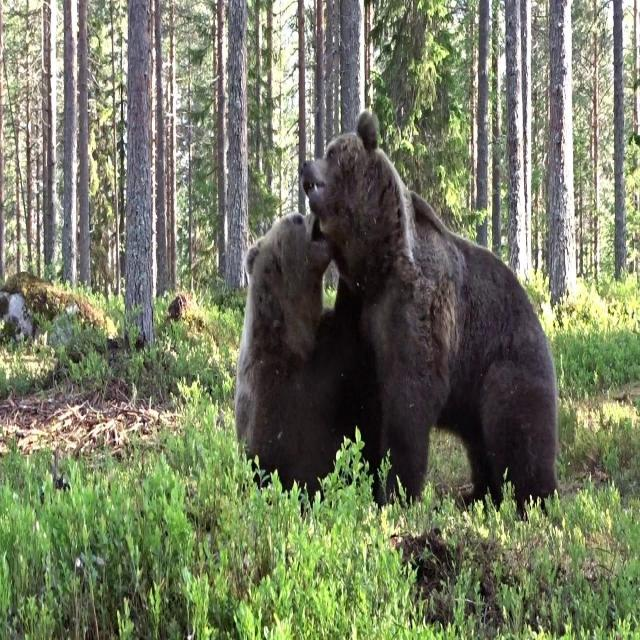Bear: (301, 113, 559, 517), (234, 213, 365, 507)
